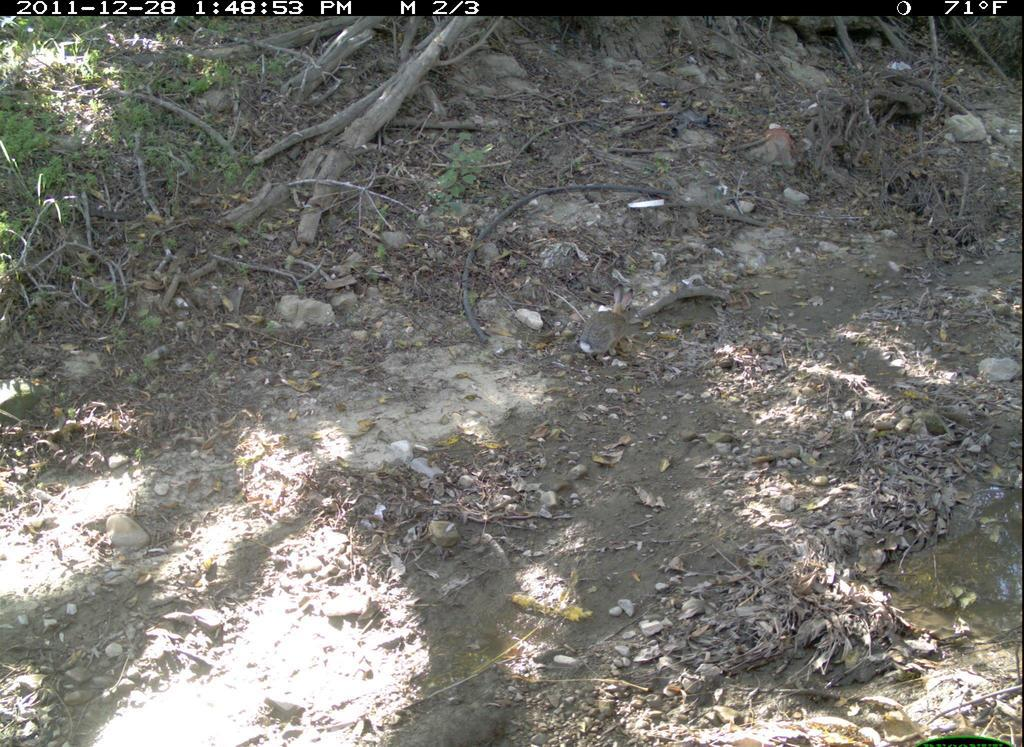rabbit: (574, 283, 639, 364)
